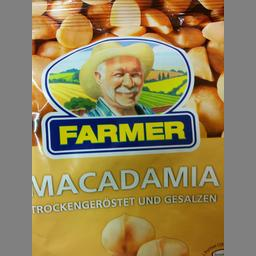nuts: (31, 0, 224, 255)
